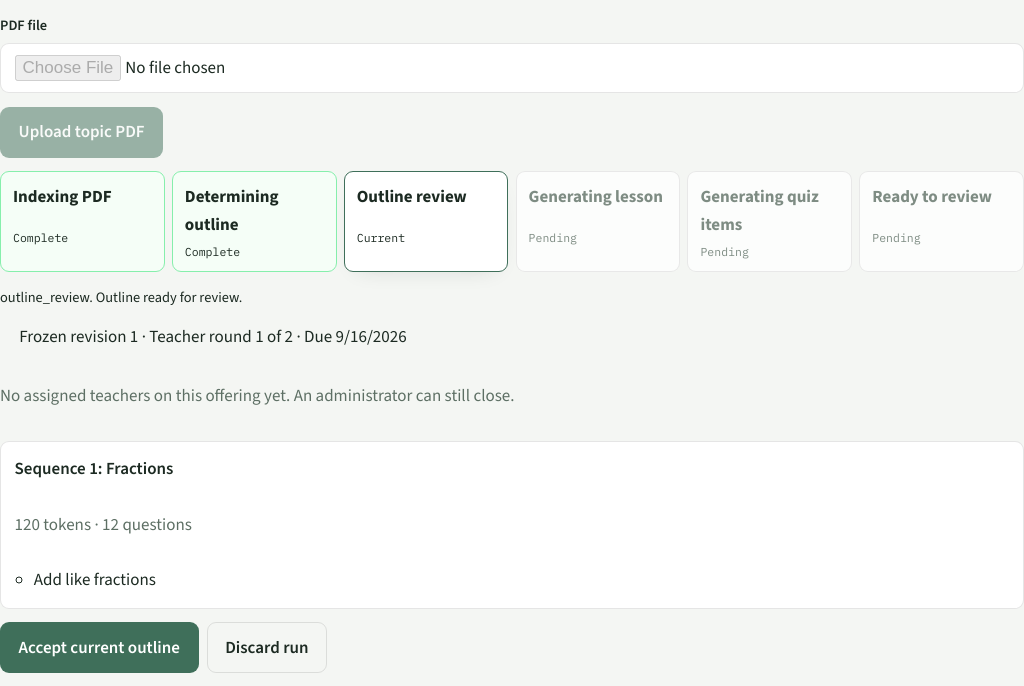
Test: TopicGenerationUpload › confirms accept current without live outline PATCH
Expected: the text "Sequence 1: Fractions" is shown, 15,455 -> 173,483
Step 1. Click the button "Accept current outline" → (99, 648), box 0,622 -> 199,673
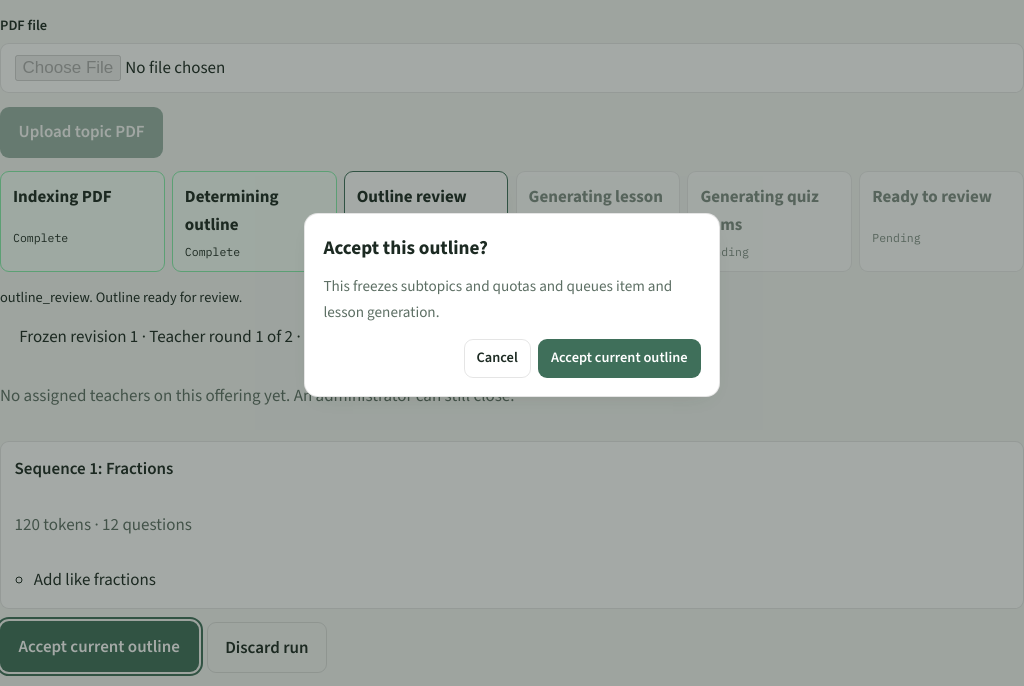
Now the dialog shows "This freezes subtopics and quotas and queues item and lesson generation.", box 323,276 -> 672,322
Step 2. Click the button "Accept current outline" → (619, 358), box 538,339 -> 701,378
(page scrolled)
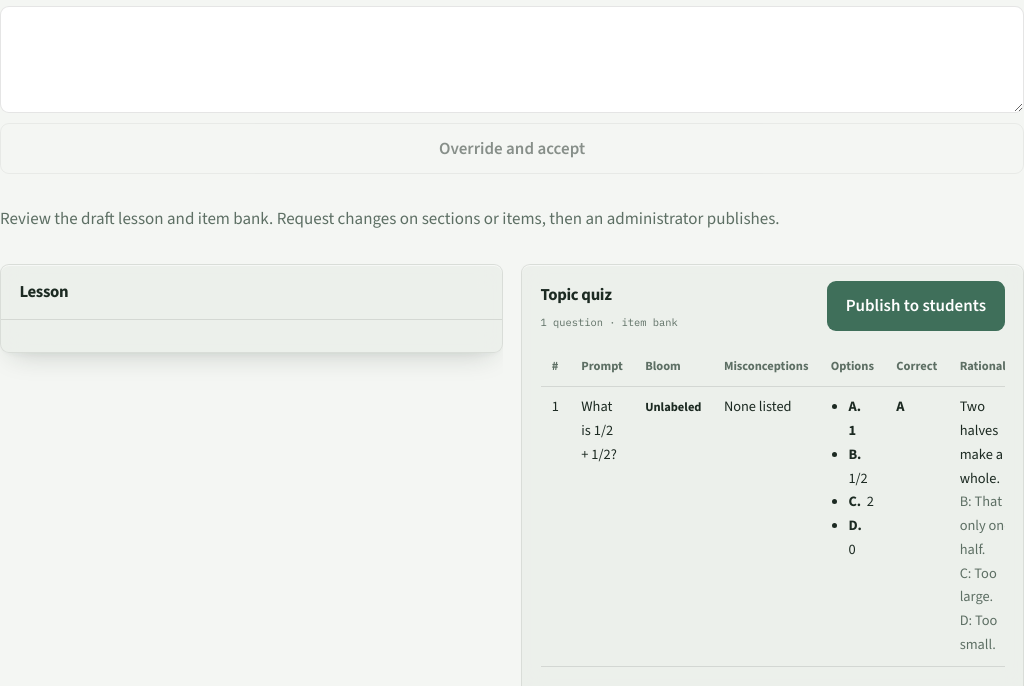
Now the text "What is 1/2 + 1/2?" is shown, box 581,395 -> 623,467
Now the heading "Lesson" is shown, box 19,280 -> 68,302
Now the button "Publish to students" is shown, box 827,280 -> 1005,331
